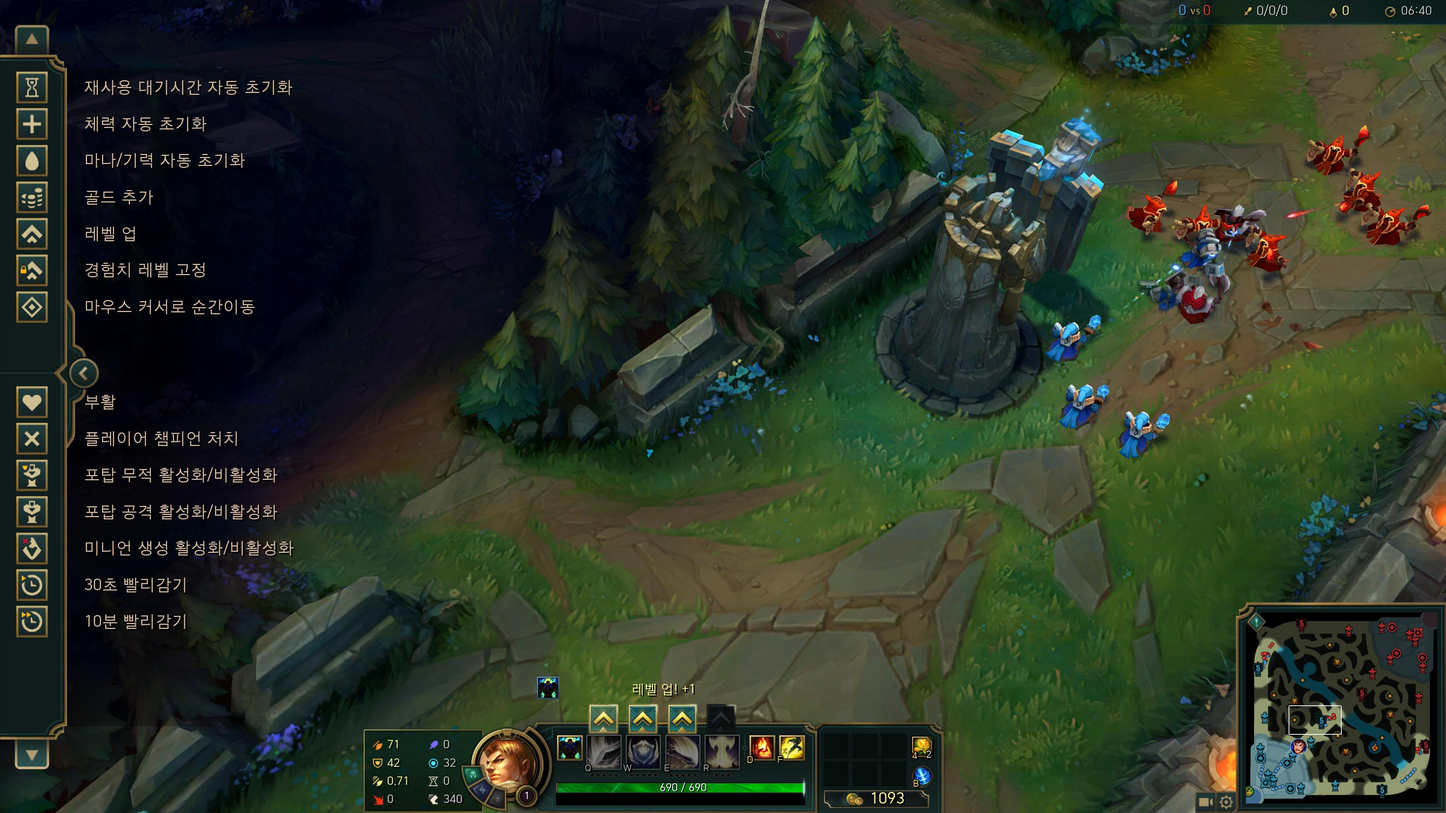ally-caster-minion: (1118, 410, 1170, 463), (1046, 315, 1100, 363), (1059, 385, 1109, 431)
ally-melee-minion: (1181, 234, 1226, 276)
enemy-caster-minion: (1359, 205, 1435, 247), (1304, 124, 1368, 173), (1127, 178, 1178, 236), (1245, 227, 1288, 275), (1338, 172, 1380, 214), (1176, 206, 1223, 232)
